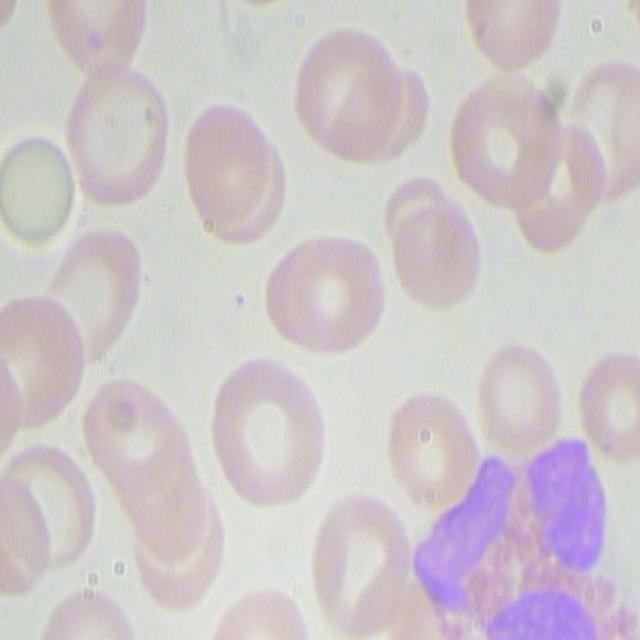RBC: (119, 408, 224, 611), (291, 22, 428, 169), (210, 351, 330, 512), (0, 424, 101, 598), (449, 68, 559, 216), (68, 66, 175, 215), (260, 232, 382, 359), (182, 96, 285, 244), (310, 494, 411, 636), (86, 375, 191, 507), (380, 175, 480, 313), (0, 121, 87, 264), (47, 219, 139, 354), (552, 57, 640, 195), (471, 334, 567, 453), (381, 388, 473, 511), (2, 291, 84, 425), (510, 130, 600, 250), (579, 348, 640, 469), (461, 0, 563, 71), (44, 0, 144, 69), (38, 587, 137, 640)
WBC: (419, 441, 609, 640)
